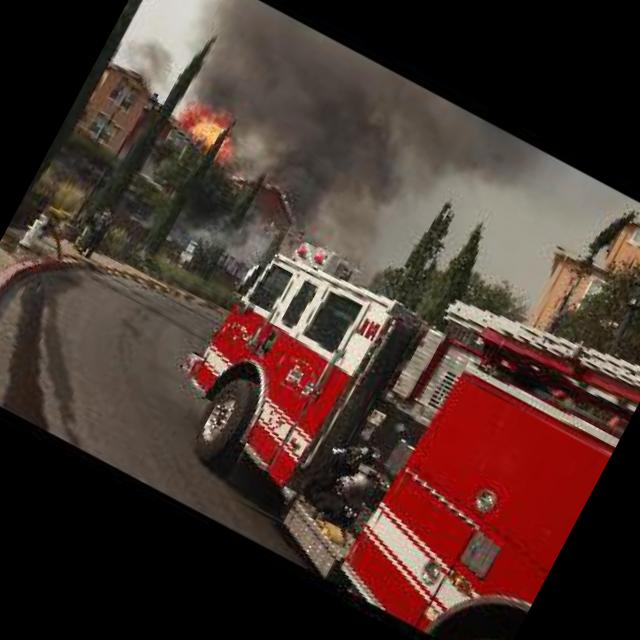fire: (161, 86, 256, 177)
smoke: (192, 0, 540, 241), (247, 33, 540, 297)
